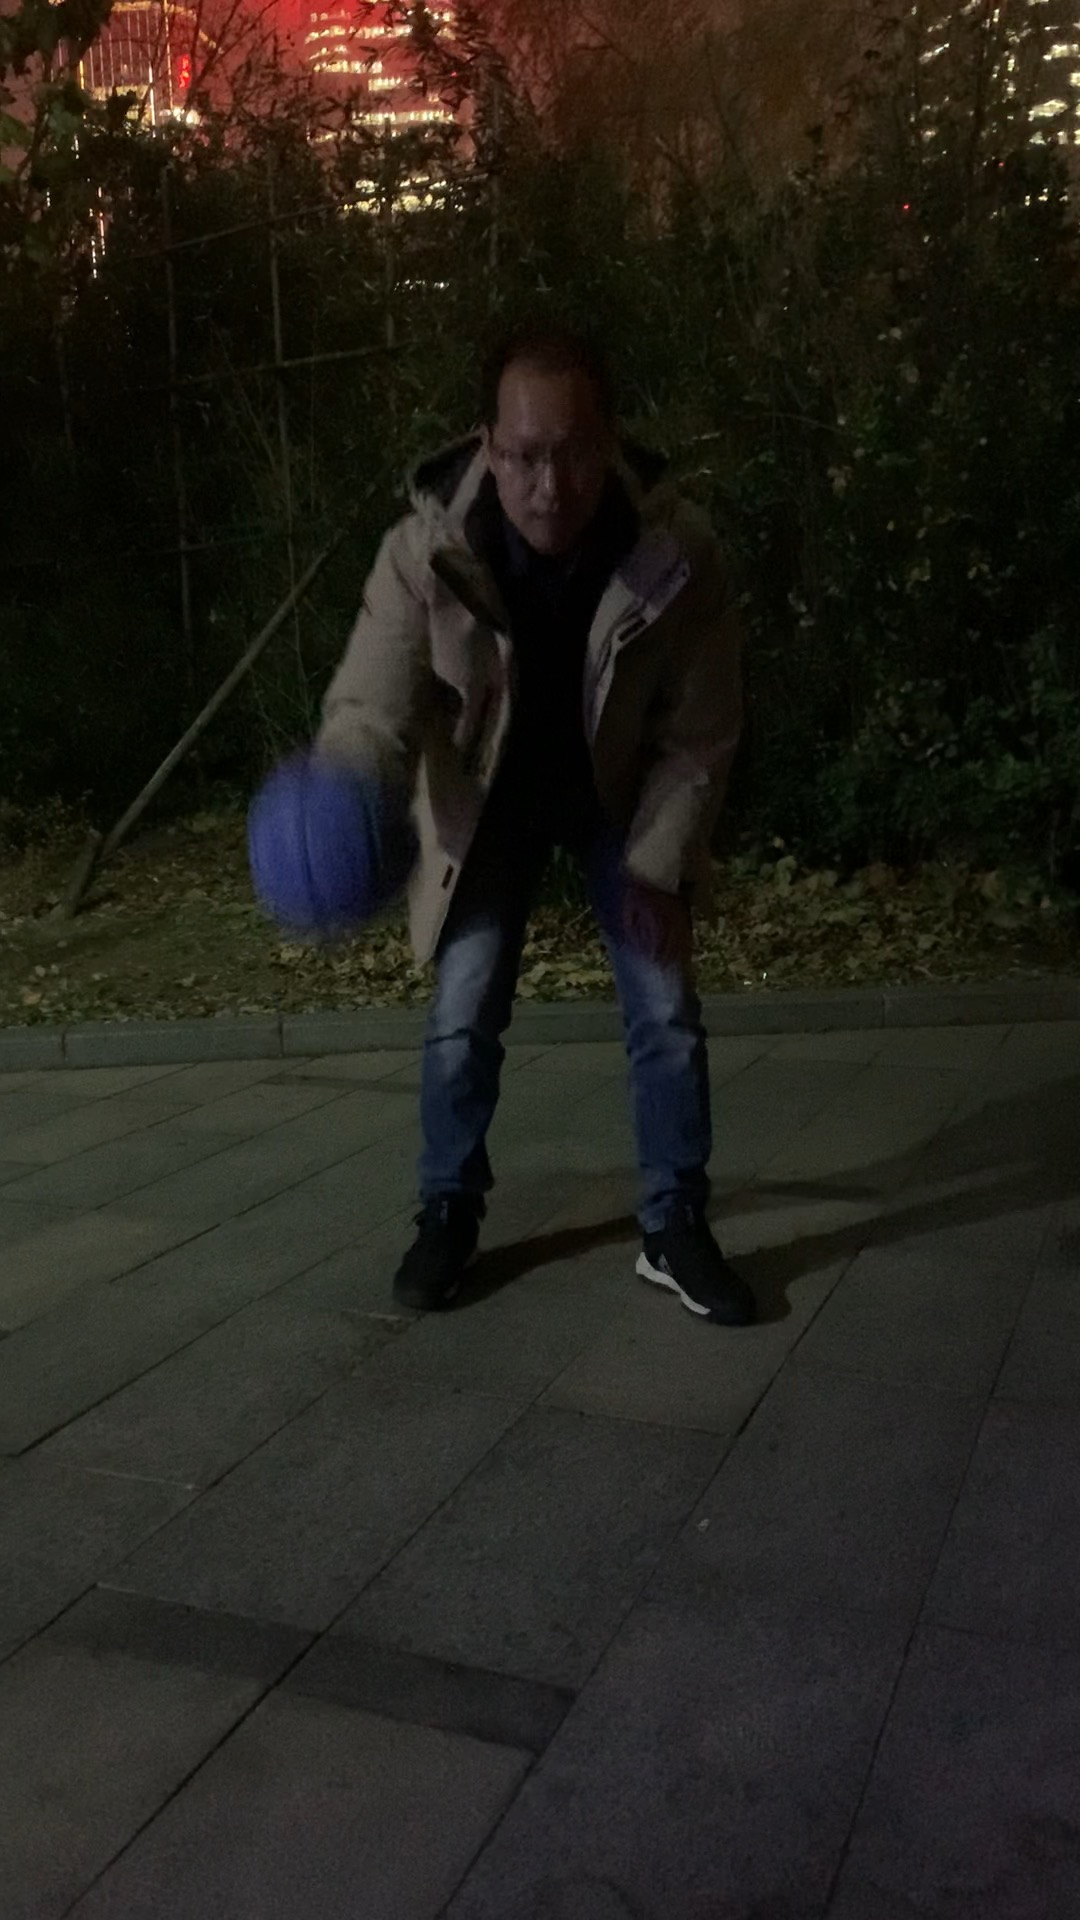ball: (252, 753, 413, 935)
